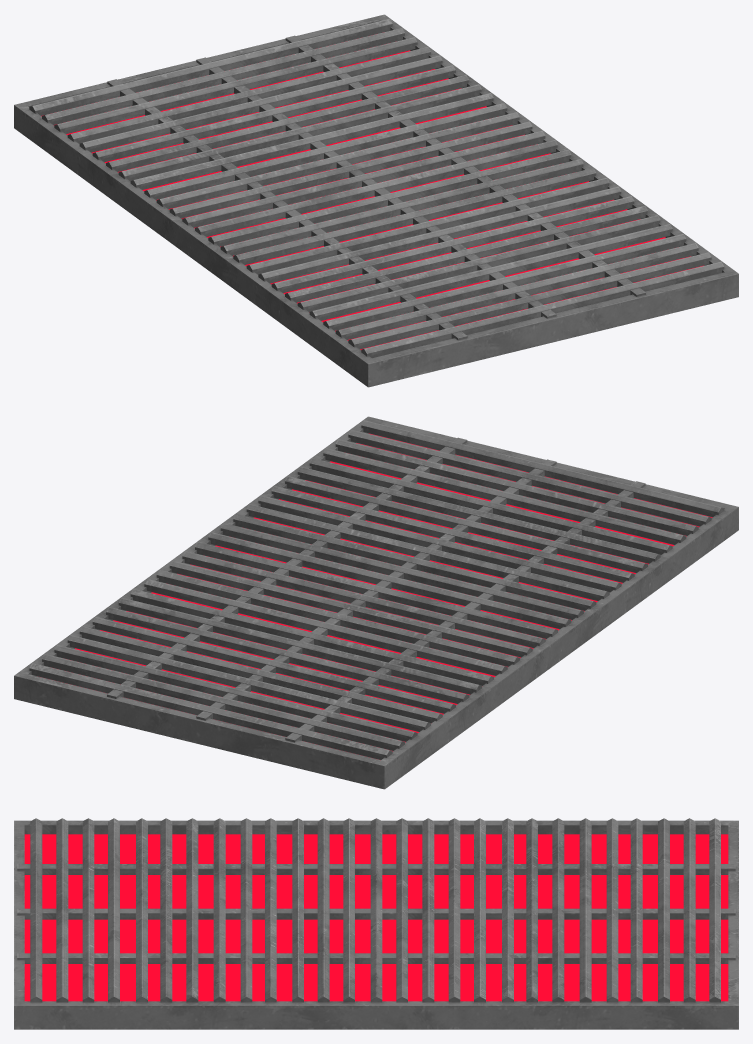
File: grate.glb
3 renders of one model, top to bottom at view 1: azimuth 30°, elevation 25°; view 2: azimuth 150°, elevation 25°; view 3: azimuth 270°, elevation 25°, orthographic. The views are drawn at different scales.
Parts seen in each view (by area): view 1: MetalGrate_lambert6_0, Plane; view 2: MetalGrate_lambert6_0, Plane; view 3: MetalGrate_lambert6_0, Plane.
Part boxes in pixels (x1,y1,x2,y2): MetalGrate_lambert6_0: (14, 14, 738, 387); Plane: (41, 50, 703, 349); MetalGrate_lambert6_0: (14, 416, 738, 789); Plane: (75, 433, 712, 751); MetalGrate_lambert6_0: (14, 818, 738, 1029); Plane: (24, 834, 728, 1001).
Bounding box in the file's own units: 133 × 9.99 × 220.
Materials: 2 (1 with a texture image).
